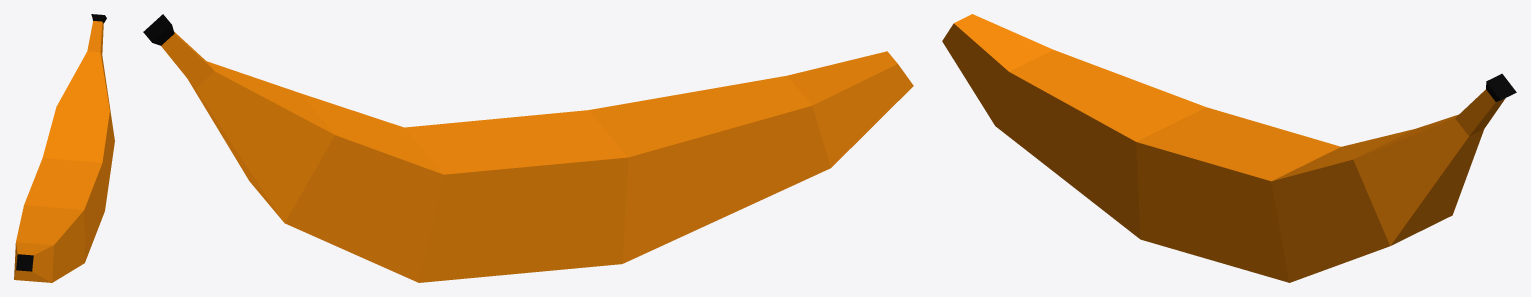
File: platano.FBX
3 views of the same model, side by side, from view 1: azimuth 30°, elevation 25°; view 2: azimuth 150°, elevation 25°; view 3: azimuth 270°, elevation 25° (orthographic). The views are drawn at different scales.
Visible parts, largest first — view 1: platano; view 2: platano; view 3: platano.
Boxes of the visible parts, x1,y1,x2,y2 form: platano: (14,14,114,282); platano: (143,14,913,282); platano: (942,14,1516,282).
Size of the model in its own units: 20.85 by 12.03 by 24.11.
